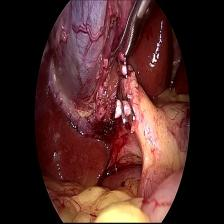Scissors: (108, 0, 150, 65)
